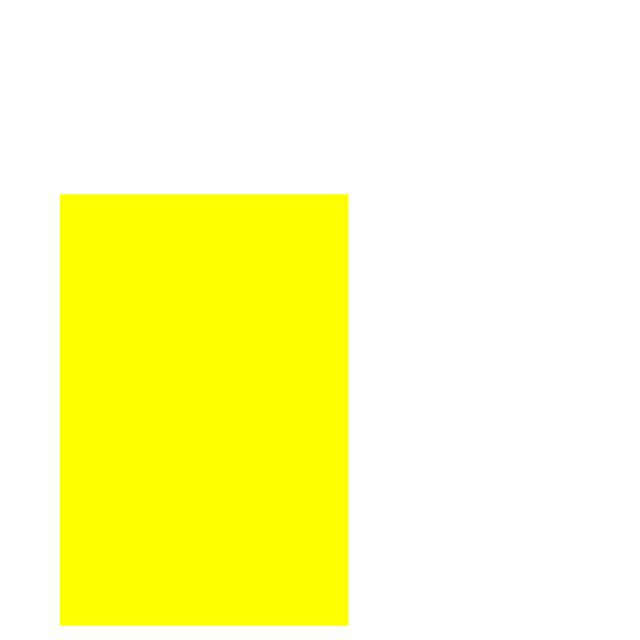Rectangle: (30, 168, 425, 640)
